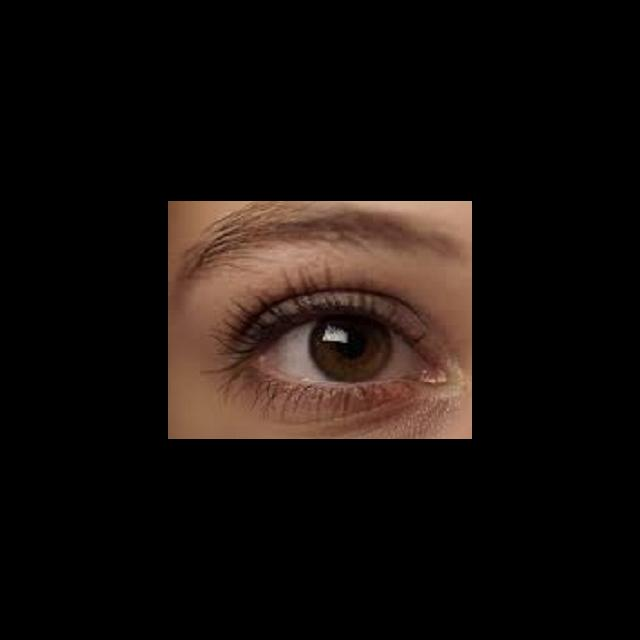eye: (261, 313, 426, 384)
iris: (309, 314, 392, 382)
